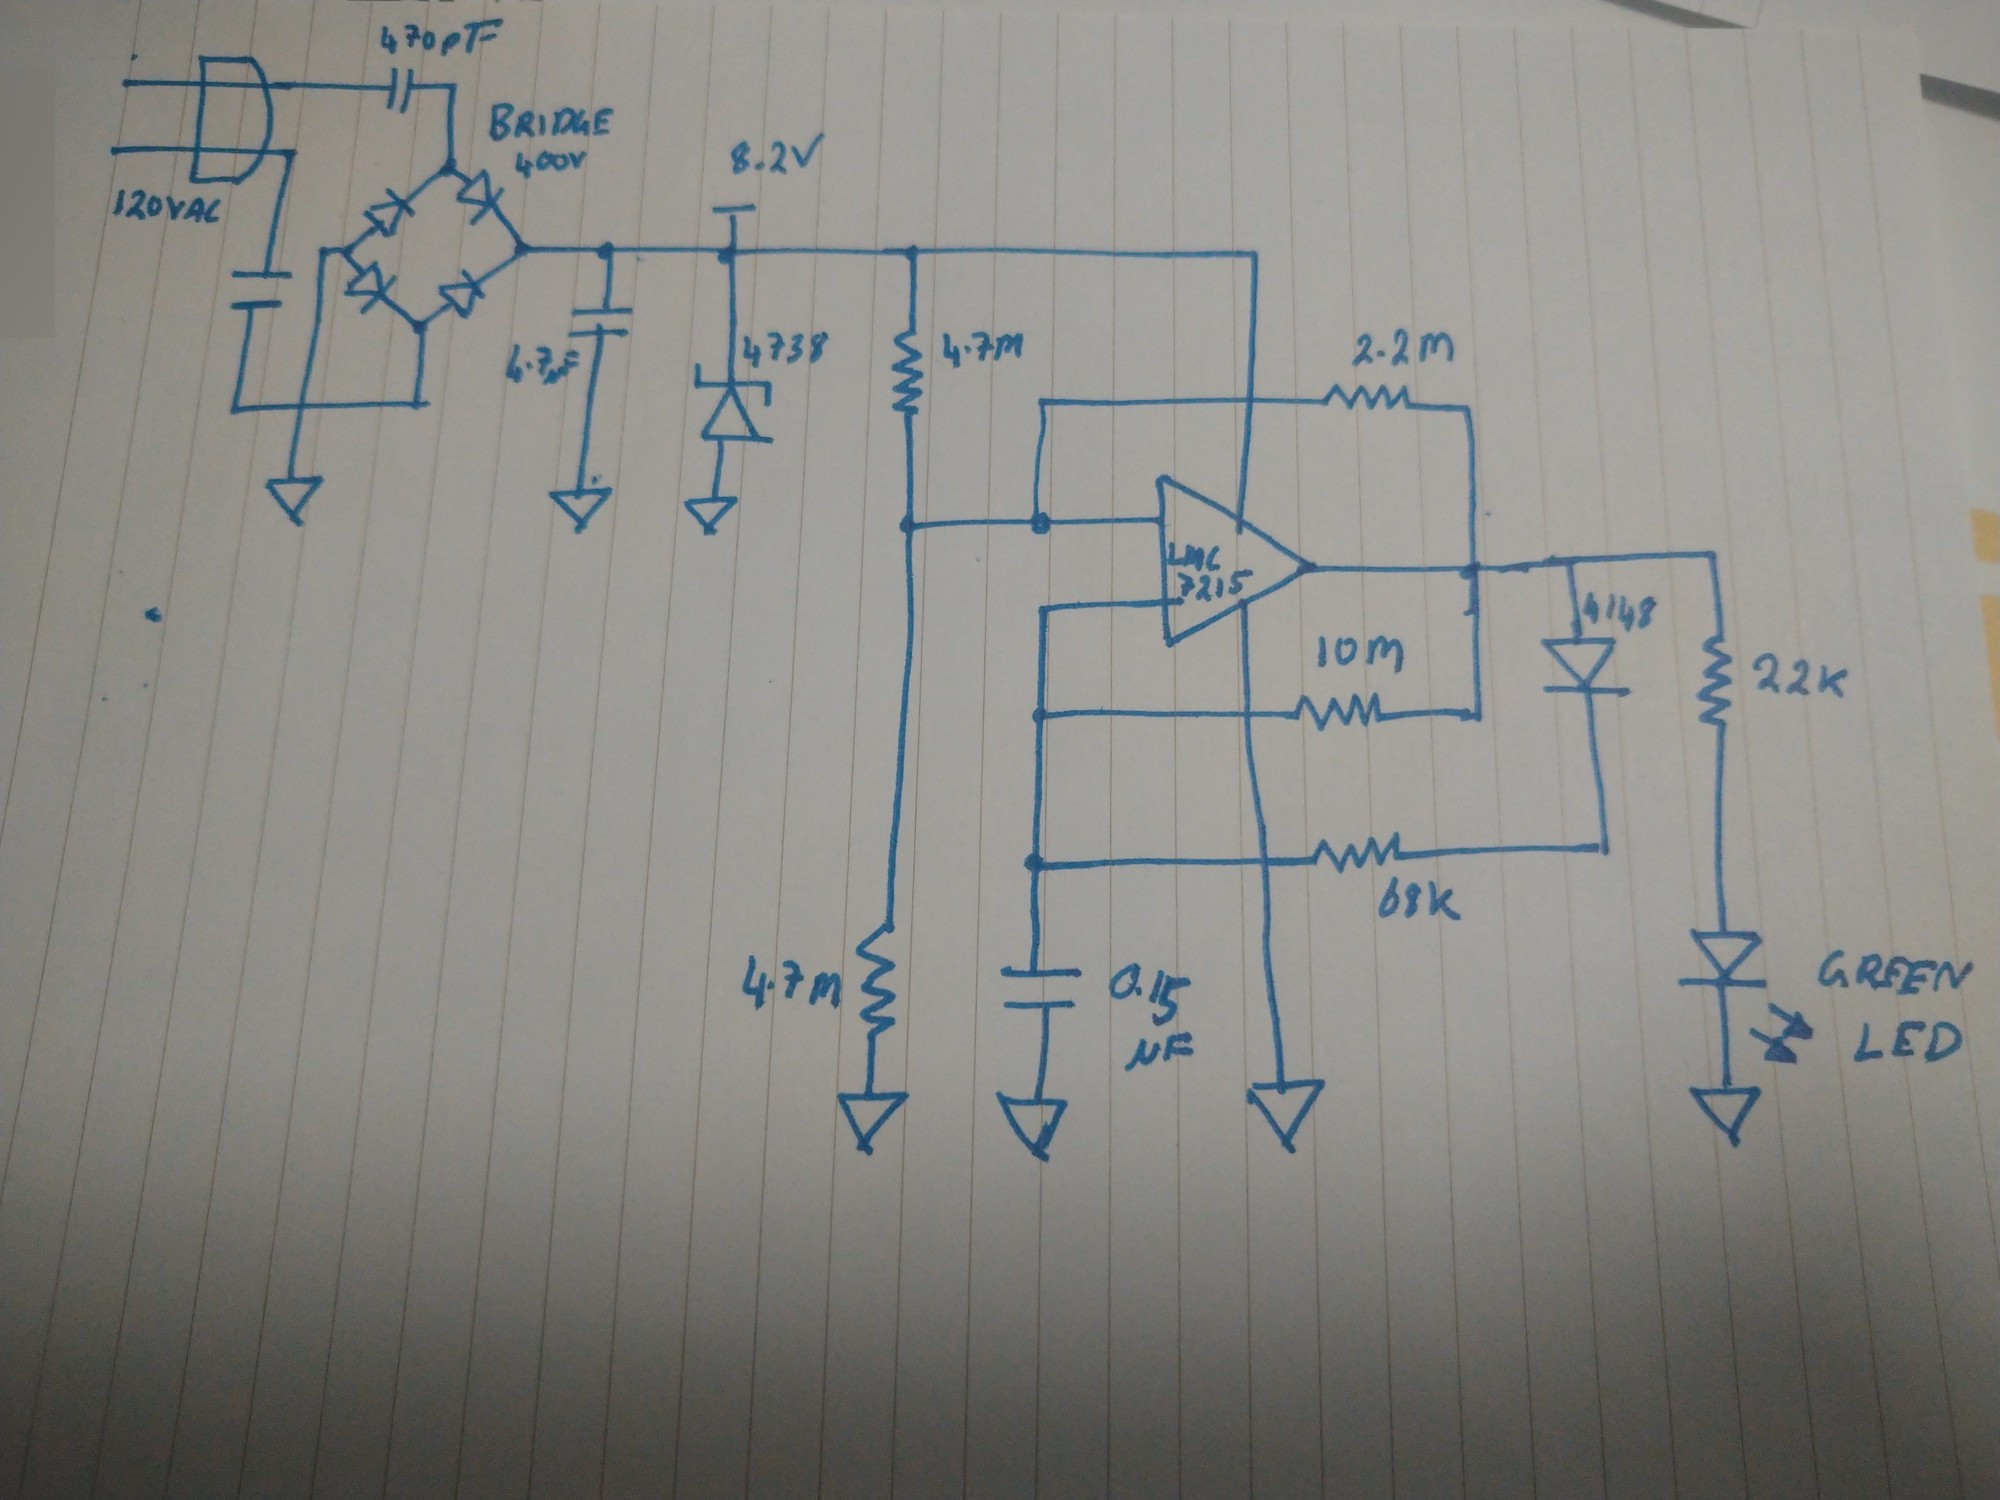capacitor.unpolarized: (995, 964, 1085, 1018), (225, 266, 294, 314), (569, 304, 635, 340), (384, 66, 416, 115)
crossover: (1252, 851, 1282, 874), (1236, 392, 1268, 414), (1236, 704, 1261, 725), (291, 395, 310, 416)
diode: (691, 361, 780, 449), (1539, 637, 1635, 700), (343, 262, 398, 317), (455, 169, 504, 227), (362, 187, 414, 239), (438, 269, 490, 321)
diode.light_emitting: (1676, 925, 1817, 1070)
gnd: (1246, 1079, 1324, 1153), (1685, 1082, 1770, 1150), (992, 1089, 1069, 1163), (836, 1089, 910, 1155), (546, 485, 617, 536), (263, 473, 328, 528), (682, 495, 746, 537)
junction: (1025, 507, 1055, 537), (713, 241, 743, 269), (1020, 851, 1050, 876), (1457, 559, 1487, 585), (899, 241, 928, 266), (894, 512, 923, 537), (510, 236, 535, 262), (595, 239, 620, 265), (406, 394, 431, 418), (1028, 704, 1054, 728), (436, 156, 458, 181), (1592, 835, 1614, 860), (1701, 545, 1726, 567), (1466, 704, 1491, 723), (1559, 555, 1584, 574), (409, 317, 431, 337), (280, 143, 301, 164), (313, 243, 334, 263), (227, 402, 247, 421), (1244, 244, 1263, 265), (1035, 600, 1055, 619), (1457, 402, 1479, 418), (339, 239, 356, 258), (1033, 394, 1052, 411), (443, 79, 461, 95)
operational_amplifier: (1153, 473, 1320, 651)
resistor: (852, 922, 902, 1041), (1310, 830, 1405, 878), (888, 326, 931, 418), (1290, 693, 1384, 734), (1698, 630, 1737, 726), (1321, 381, 1413, 416)
socket: (180, 50, 272, 191)
terminal: (710, 199, 757, 224), (101, 140, 124, 161), (113, 76, 137, 91)
text: (1107, 960, 1198, 1075), (1817, 945, 1973, 999), (739, 953, 844, 1016), (1165, 537, 1254, 603), (376, 16, 506, 60), (487, 99, 616, 143), (1844, 1019, 1967, 1065), (1751, 652, 1850, 703), (1350, 325, 1460, 369), (728, 132, 827, 180), (1375, 876, 1468, 926), (110, 187, 224, 228), (1313, 632, 1406, 674), (742, 328, 831, 370), (939, 329, 1028, 370), (502, 343, 581, 389), (1580, 591, 1660, 633), (510, 147, 592, 181)
